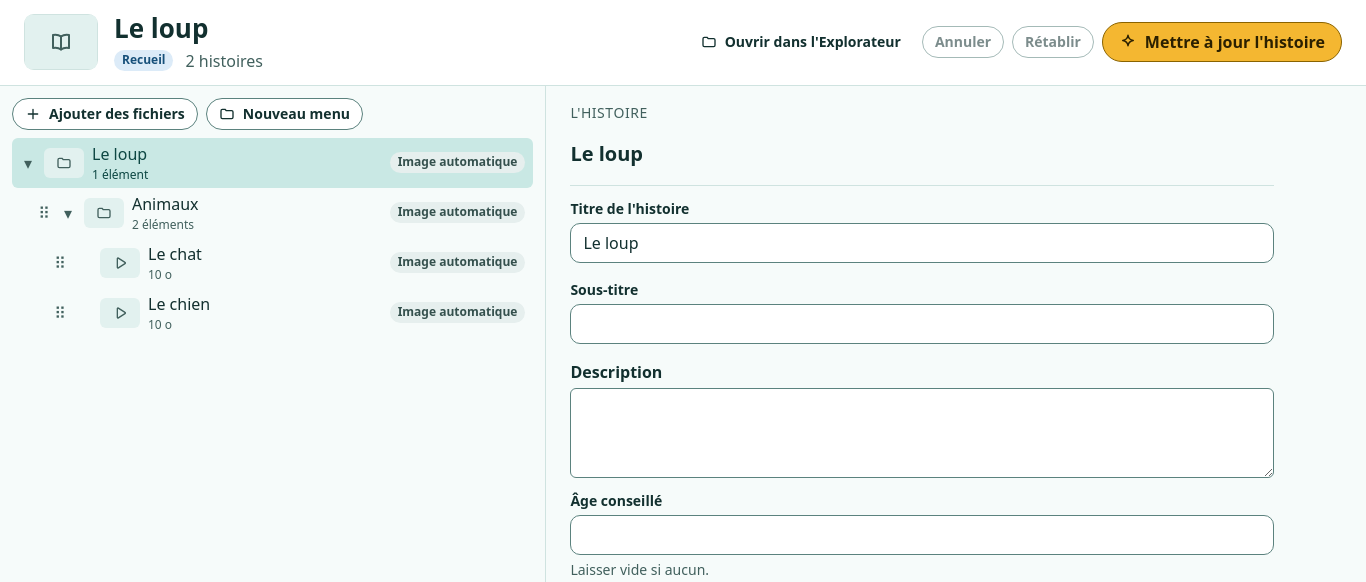
Scenario: dossier choisi qui n'est pas celui de l'histoire : message, rien d'ouvert
Click the list item "⠿ Le chat 10 o Image automatique".
click(120, 262)  # box [12,238,533,288]
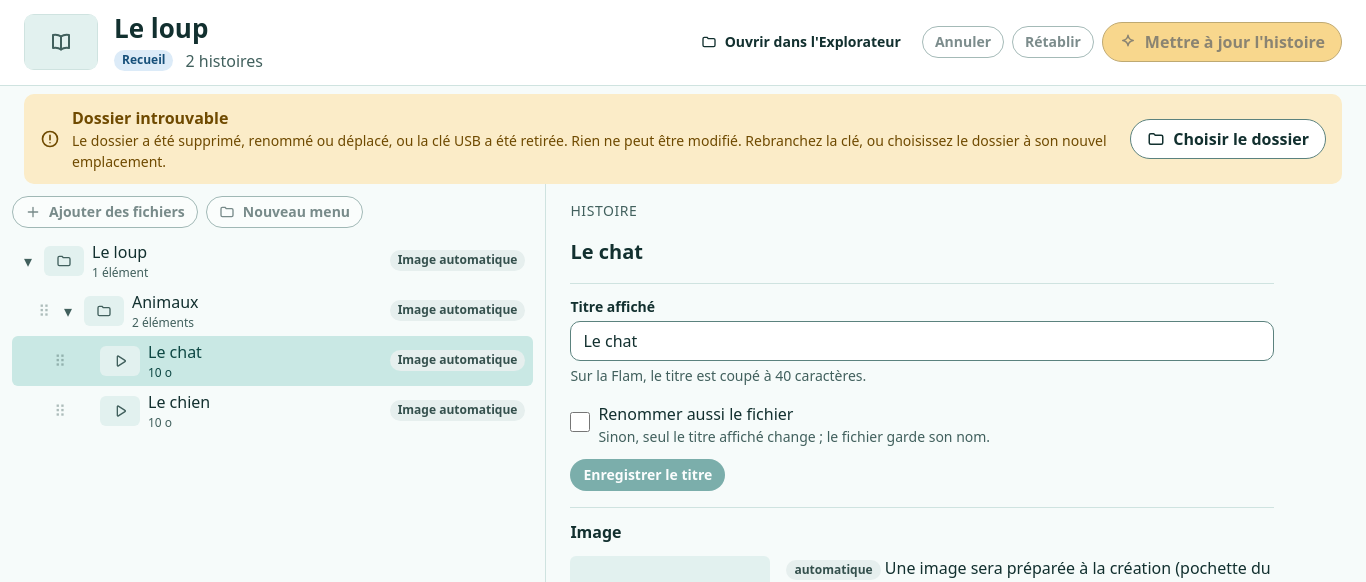
Now the heading "Le chat" is shown, box [570,238,643,264]
Click the button "Choisir le dossier".
click(1228, 138)  # box [1130,118,1326,158]
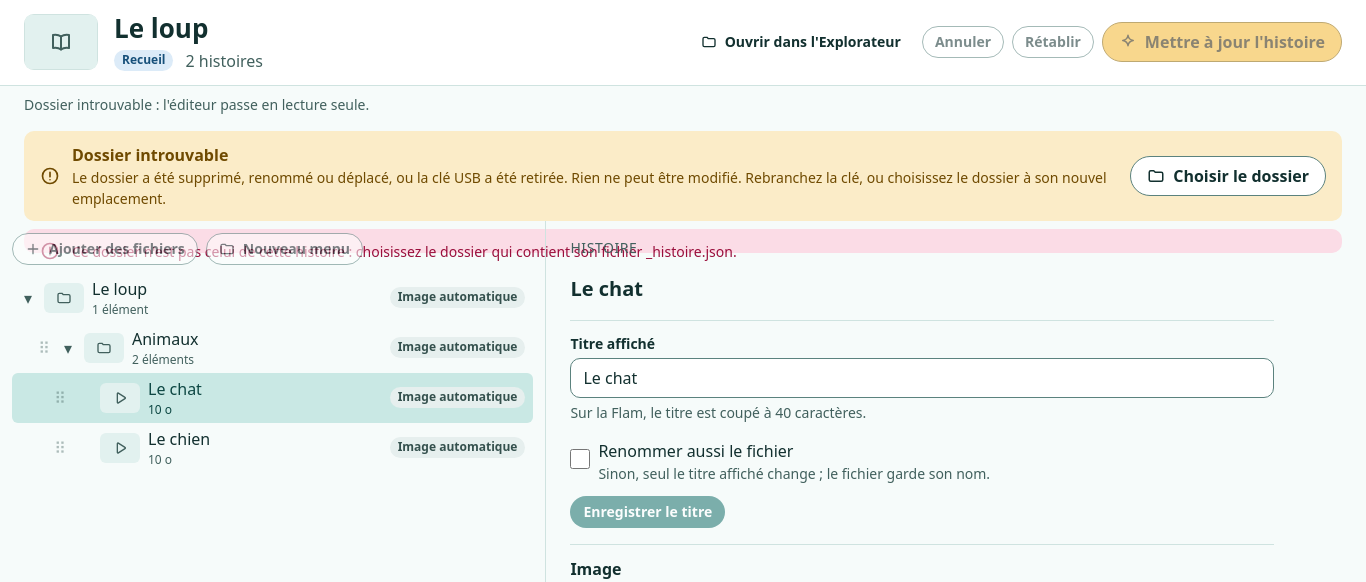
Now the text "Ce dossier n'est pas celui de cette histoire : choisissez le dossier qui contient son fichier _histoire.json." is shown, box [72,242,737,260]
